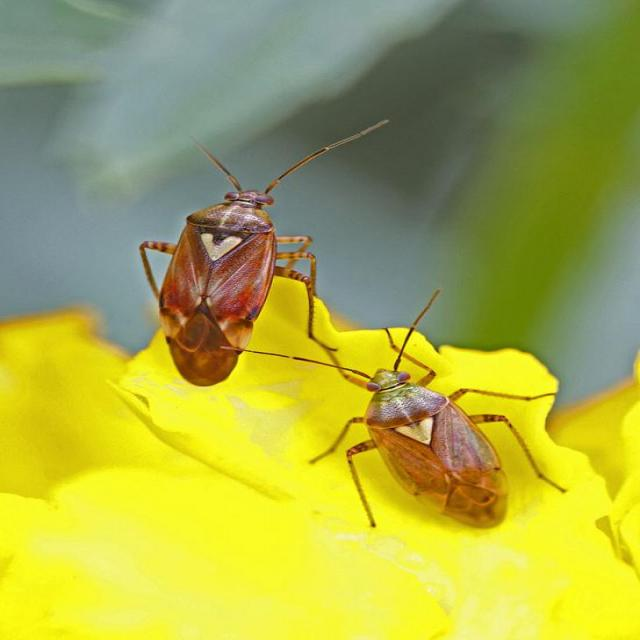Miridae-Adult-: (218, 291, 597, 547), (132, 106, 399, 386)
